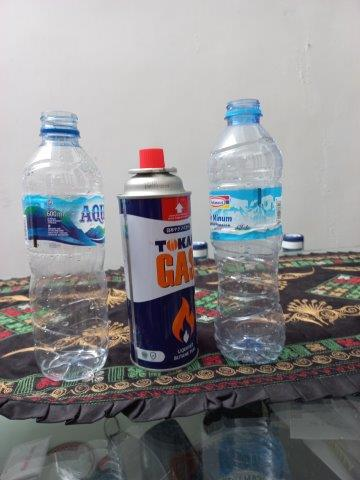botolplastik: (23, 109, 105, 382), (209, 97, 285, 364)
